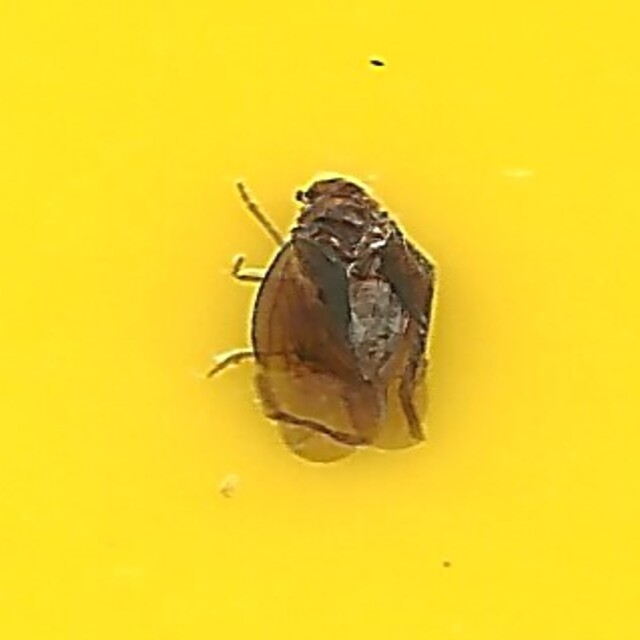Hemiptera: (201, 178, 439, 462)
